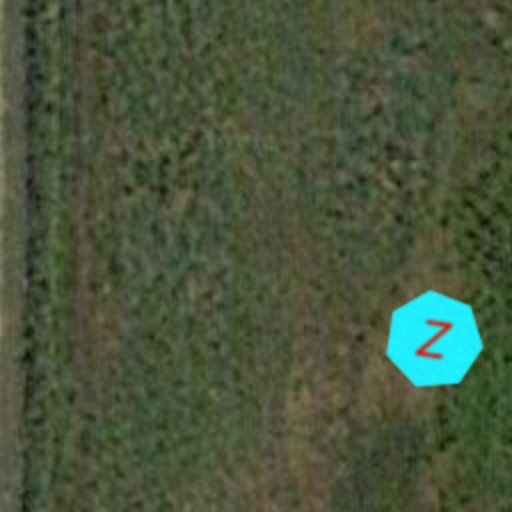heptagon: (376, 282, 492, 398)
